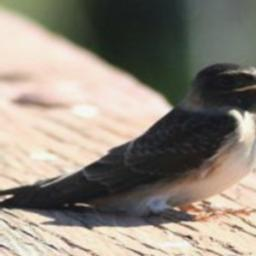Swallow: (0, 60, 256, 223)
